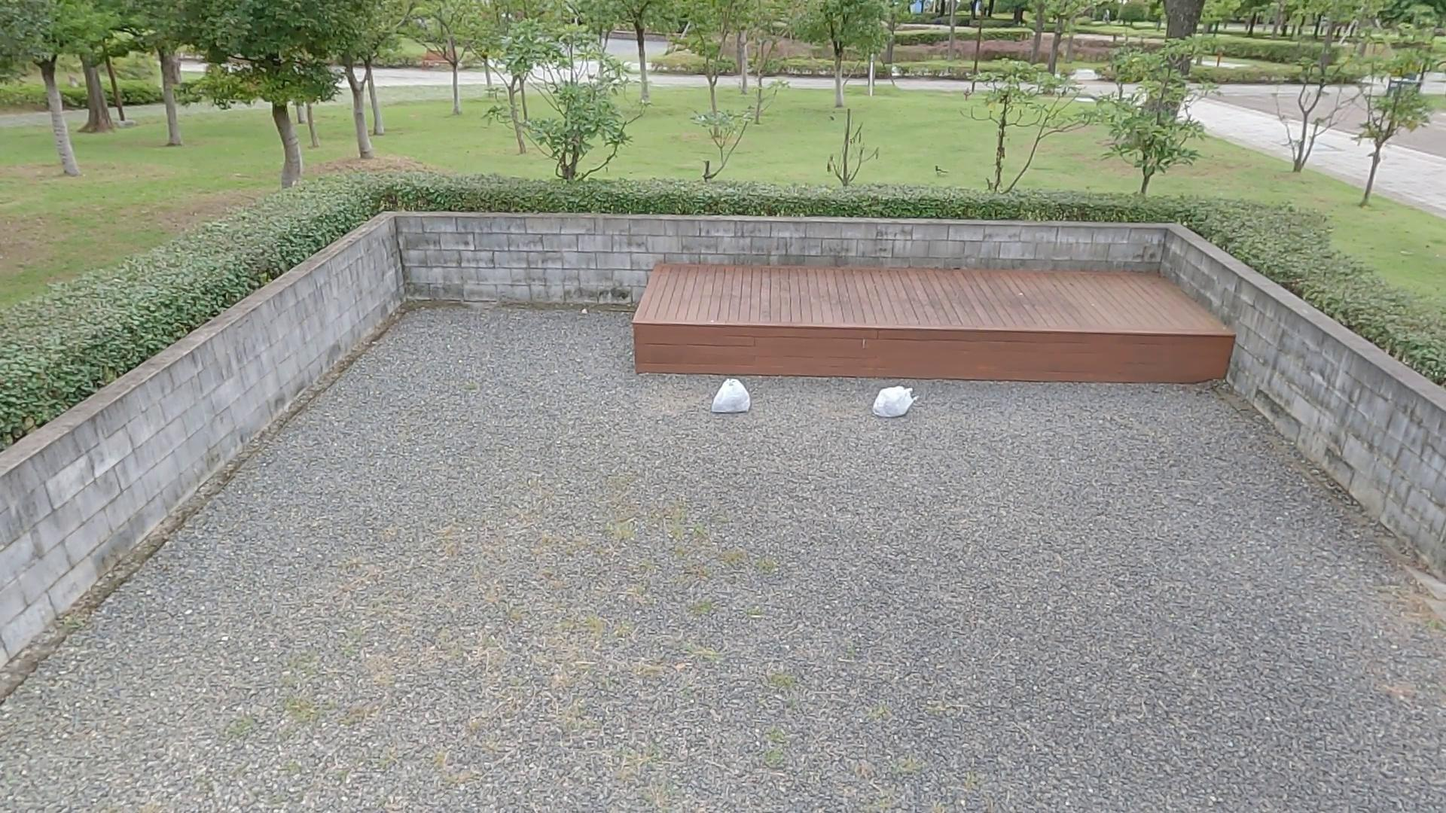trash: (870, 385, 920, 419), (709, 376, 752, 415)
